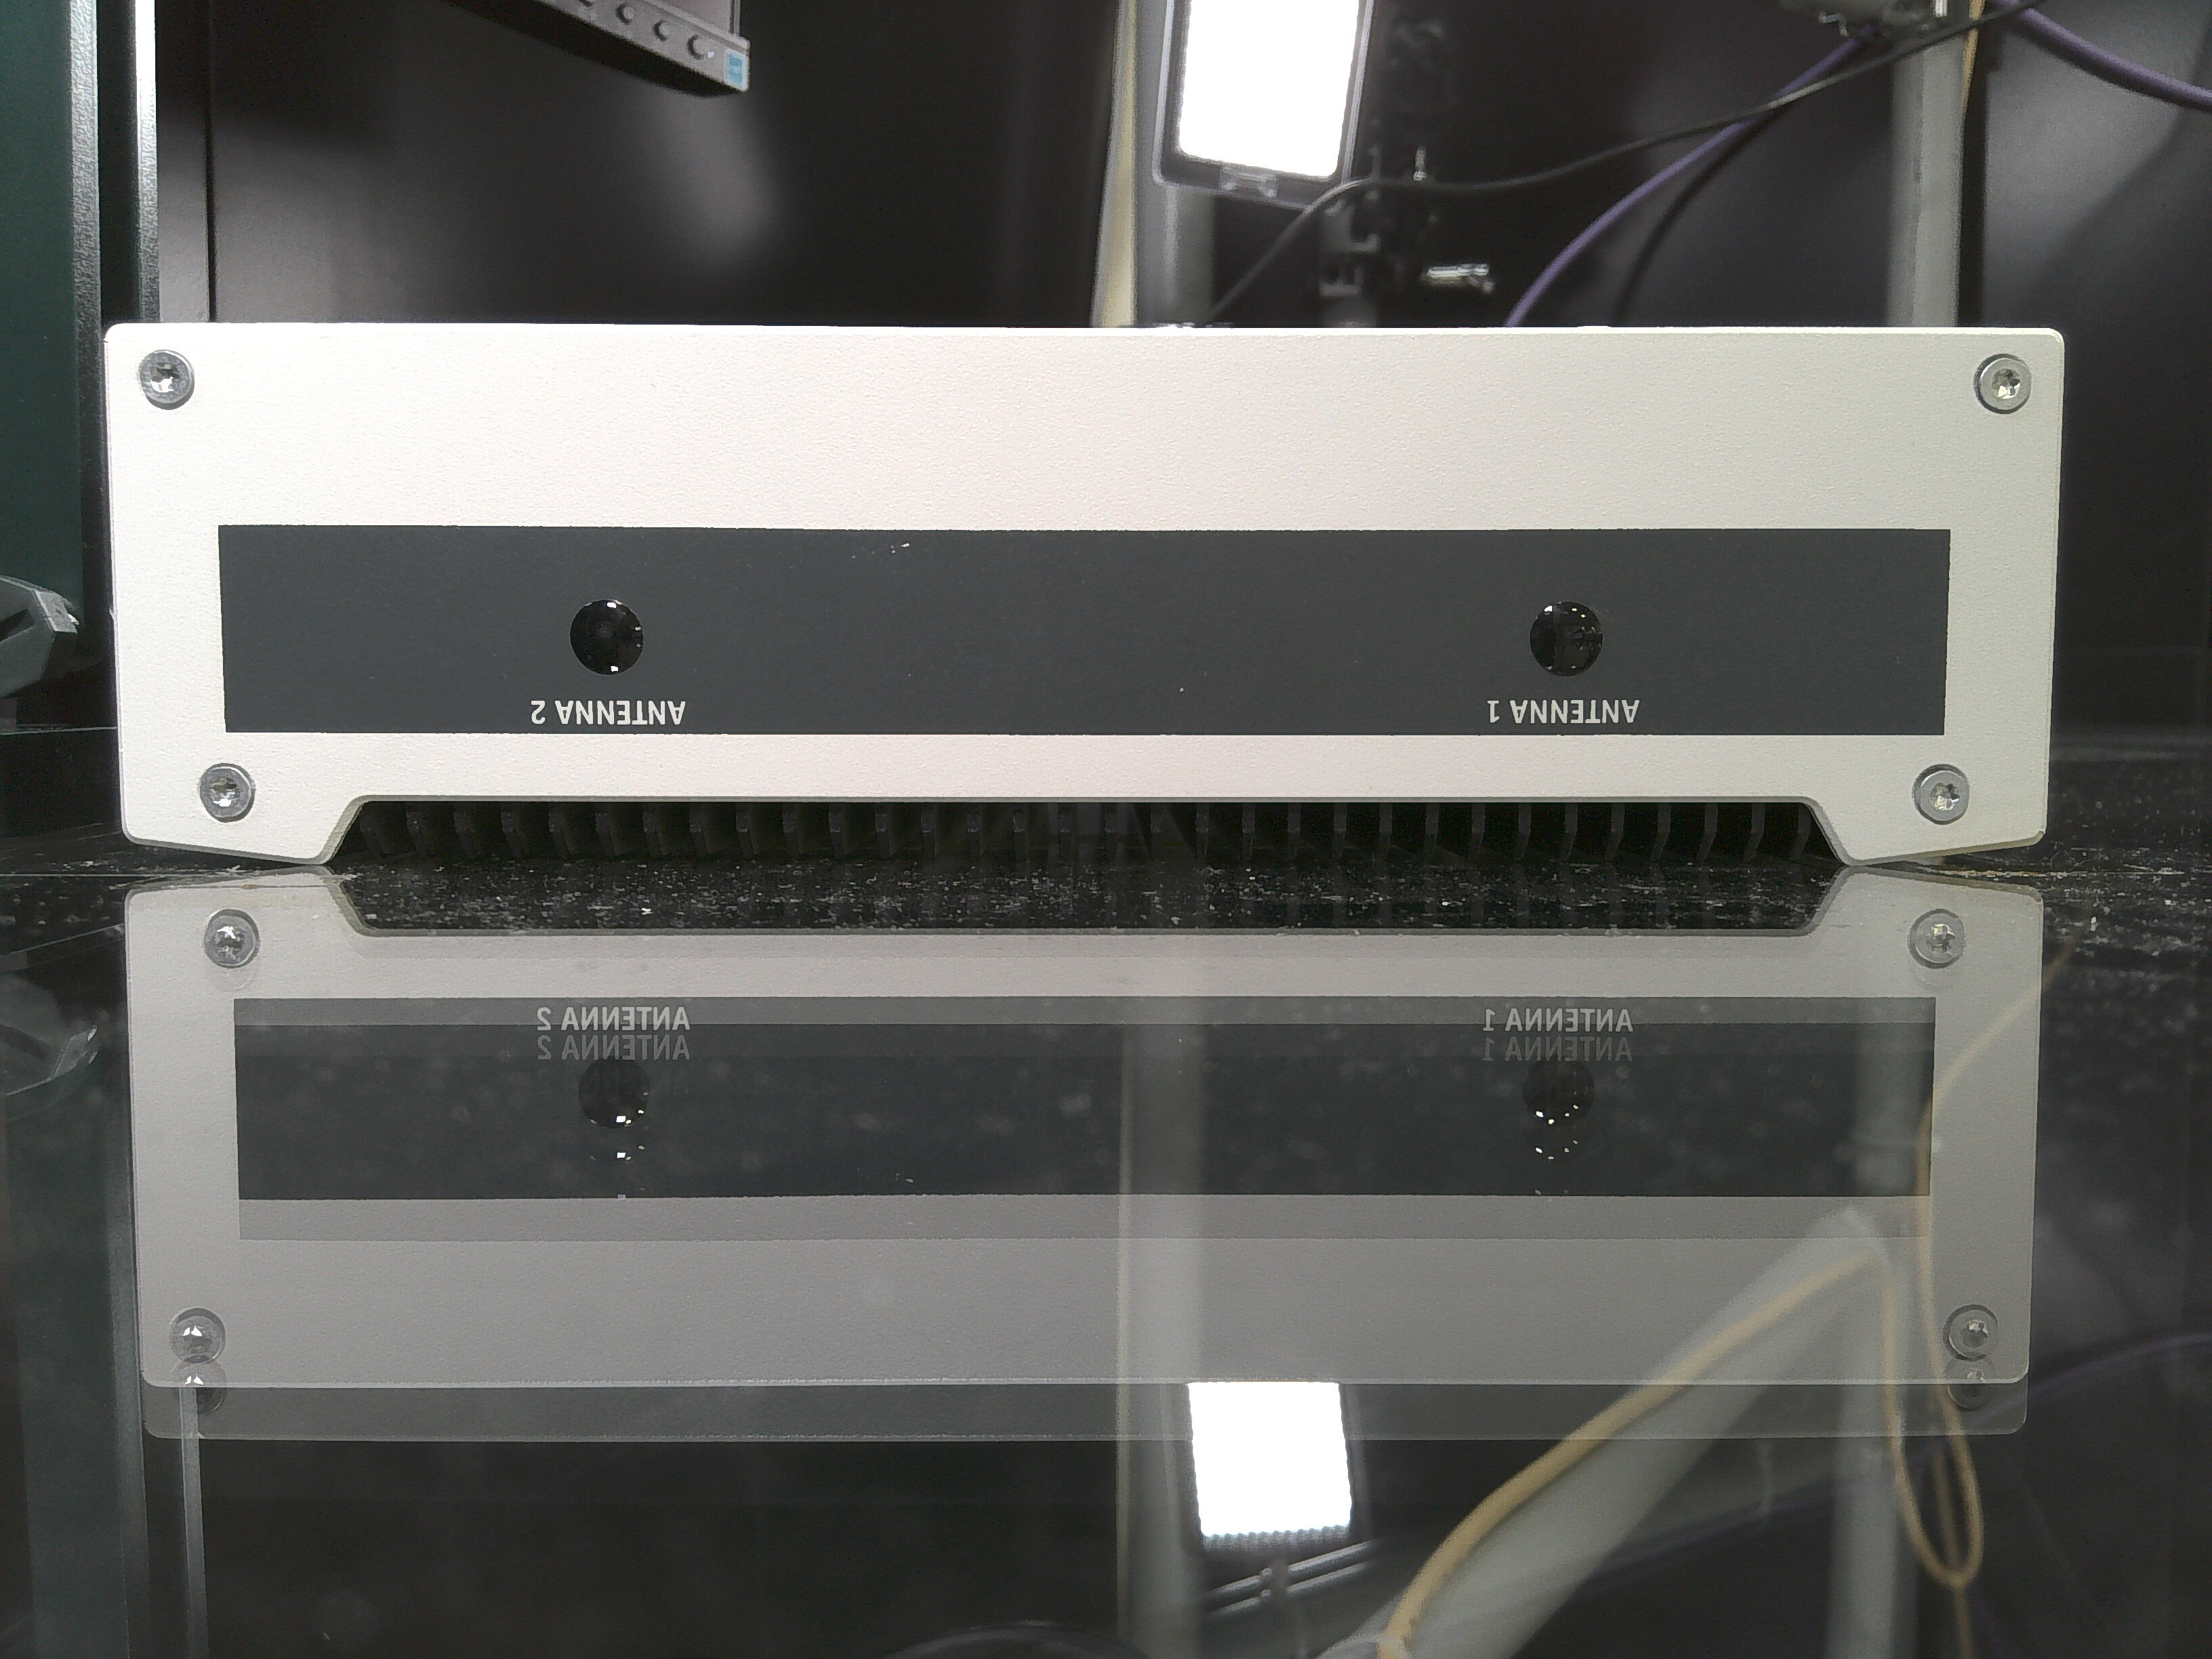CamBack: (57, 284, 2114, 873)
Schraube_gespiegelt: (160, 1302, 237, 1427), (1932, 1298, 2010, 1419), (1900, 901, 1980, 1000), (199, 899, 268, 1004)
Schraube_halb: (188, 751, 268, 829), (1904, 753, 1980, 833), (1963, 343, 2041, 420), (129, 338, 204, 418)
